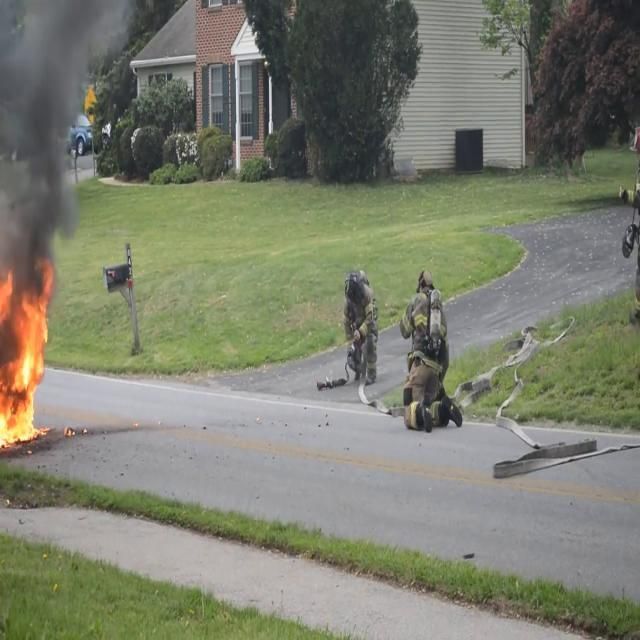Fire: (0, 268, 53, 451)
Smoke: (0, 0, 115, 289)
